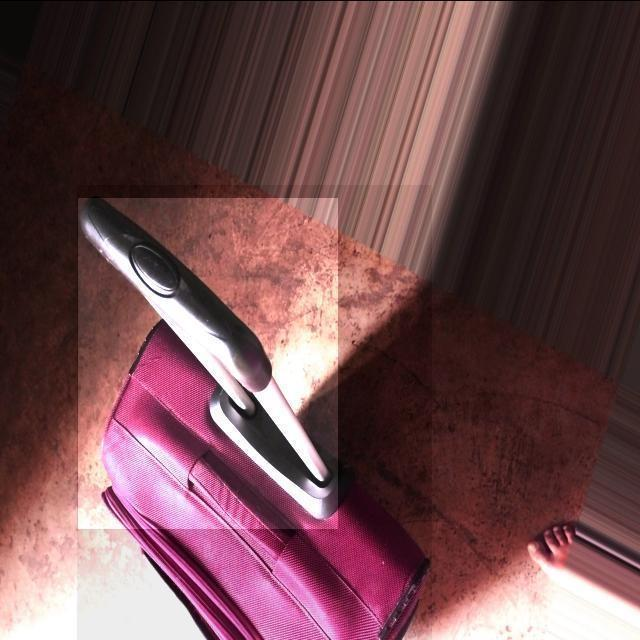Suitcase: (73, 200, 440, 640)
